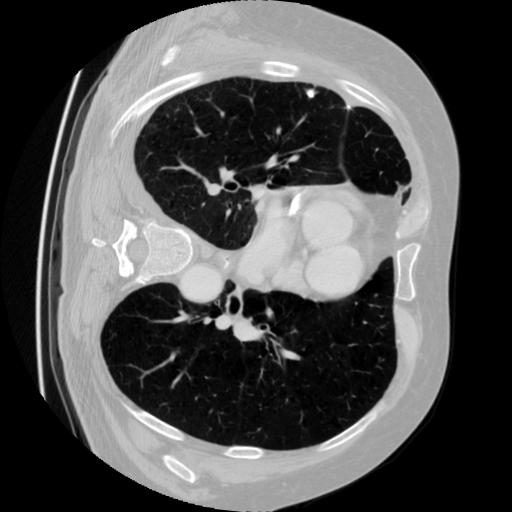nodule: (305, 87, 320, 102)
